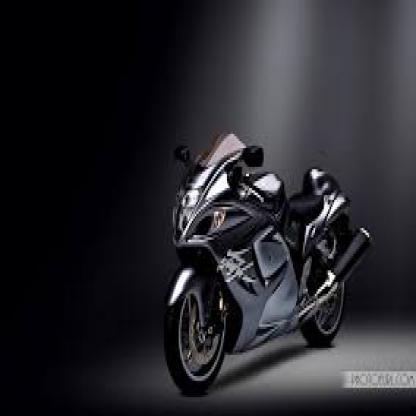Motorcycle: (160, 132, 353, 394)
